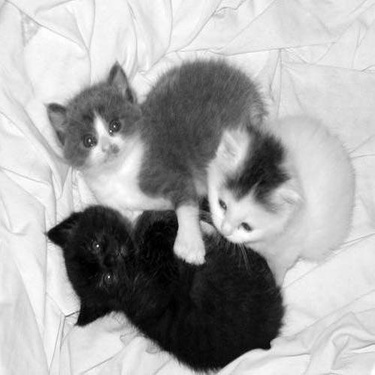cat: (48, 58, 265, 275), (43, 200, 287, 353), (188, 116, 360, 279)
